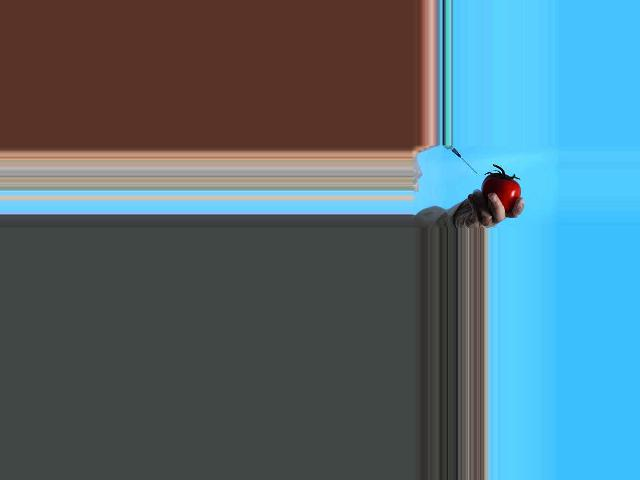tomato: (482, 173, 521, 212)
